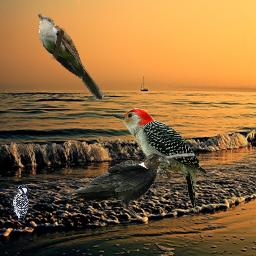Crow: (64, 152, 171, 218)
Cuckoo: (38, 14, 104, 100)
Woodpecker: (111, 108, 206, 209), (9, 184, 30, 221)
